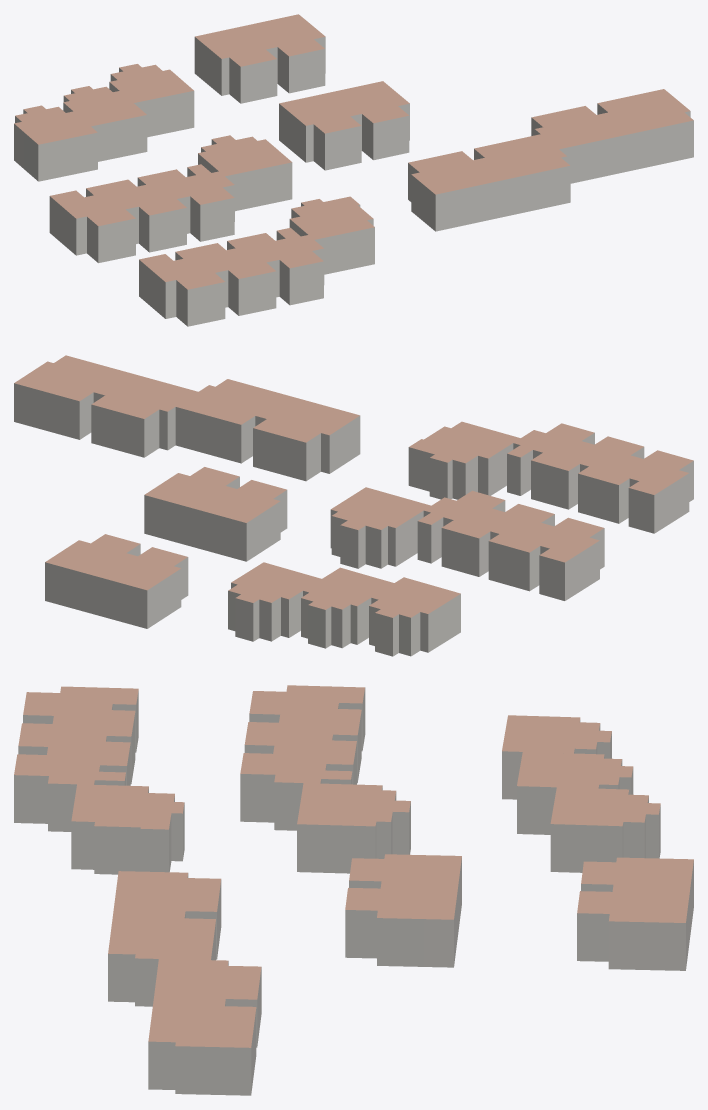
The model's file is gridID_18.dae.
The picture shows the model from 3 angles, top to bottom: view 1: azimuth 30°, elevation 25°; view 2: azimuth 150°, elevation 25°; view 3: azimuth 270°, elevation 25°; orthographic projection. The views are drawn at different scales.
Parts seen in each view (by area): view 1: model_gridID_18_w389702072, model_gridID_18_w389702063_001, model_gridID_18_w389699496, model_gridID_18_w389699499_002, model_gridID_18_w389699488, model_gridID_18_w389699490, model_gridID_18_w389702066, model_gridID_18_w389702063, model_gridID_18_w389702072_001, model_gridID_18_w389702060, model_gridID_18_w389702060_001; view 2: model_gridID_18_w389702063_001, model_gridID_18_w389702072, model_gridID_18_w389699496, model_gridID_18_w389699499_002, model_gridID_18_w389699488, model_gridID_18_w389699490, model_gridID_18_w389702072_001, model_gridID_18_w389702063, model_gridID_18_w389702066, model_gridID_18_w389702060_001, model_gridID_18_w389702060; view 3: model_gridID_18_w389699499_002, model_gridID_18_w389702063_001, model_gridID_18_w389702072, model_gridID_18_w389699488, model_gridID_18_w389699490, model_gridID_18_w389699496, model_gridID_18_w389702072_001, model_gridID_18_w389702063, model_gridID_18_w389702060_001, model_gridID_18_w389702060, model_gridID_18_w389702066.
Part boxes in pixels (<box>): model_gridID_18_w389702072: <box>139,227,324,326</box>; model_gridID_18_w389702063_001: <box>49,164,234,263</box>; model_gridID_18_w389699496: <box>408,134,570,231</box>; model_gridID_18_w389699499_002: <box>531,89,693,183</box>; model_gridID_18_w389699488: <box>194,14,325,103</box>; model_gridID_18_w389699490: <box>279,81,409,170</box>; model_gridID_18_w389702066: <box>14,105,97,181</box>; model_gridID_18_w389702063: <box>198,135,292,211</box>; model_gridID_18_w389702072_001: <box>289,196,374,274</box>; model_gridID_18_w389702060: <box>63,86,147,161</box>; model_gridID_18_w389702060_001: <box>109,64,194,137</box>; model_gridID_18_w389702063_001: <box>417,490,604,600</box>; model_gridID_18_w389702072: <box>507,423,693,533</box>; model_gridID_18_w389699496: <box>175,379,360,481</box>; model_gridID_18_w389699499_002: <box>14,355,198,457</box>; model_gridID_18_w389699488: <box>45,534,188,628</box>; model_gridID_18_w389699490: <box>144,467,287,561</box>; model_gridID_18_w389702072_001: <box>408,421,520,499</box>; model_gridID_18_w389702063: <box>330,487,430,568</box>; model_gridID_18_w389702066: <box>369,577,460,656</box>; model_gridID_18_w389702060_001: <box>228,562,321,641</box>; model_gridID_18_w389702060: <box>301,567,393,648</box>; model_gridID_18_w389699499_002: <box>148,959,261,1095</box>; model_gridID_18_w389702063_001: <box>240,685,365,830</box>; model_gridID_18_w389702072: <box>14,686,138,831</box>; model_gridID_18_w389699488: <box>577,857,693,970</box>; model_gridID_18_w389699490: <box>345,854,461,967</box>; model_gridID_18_w389699496: <box>108,871,221,1006</box>; model_gridID_18_w389702072_001: <box>71,784,184,874</box>; model_gridID_18_w389702063: <box>297,783,410,873</box>; model_gridID_18_w389702060_001: <box>550,787,660,872</box>; model_gridID_18_w389702060: <box>517,752,633,834</box>; model_gridID_18_w389702066: <box>502,715,611,799</box>.
Size of the model in its own units: 122 by 96.57 by 7.5.
